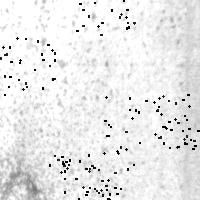pitted_surface: (3, 2, 145, 191), (103, 96, 158, 152), (0, 37, 54, 94), (49, 154, 107, 200), (154, 94, 200, 151), (76, 0, 133, 34), (89, 164, 142, 200)
